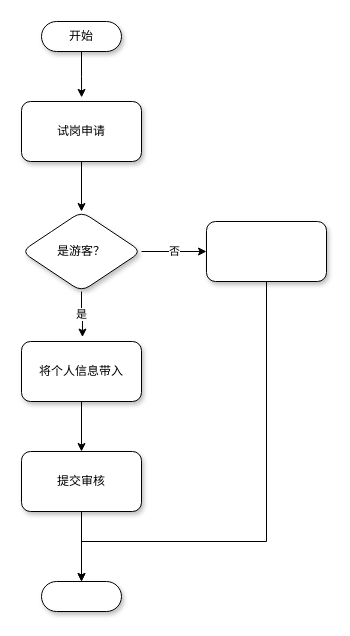
The diagram is 350 pixels wide and 636 high, and some of its shapes have lost their labels. Here are the shapes that lost their labels. From the top down, the centre of each, then its label:
At point 267,252: "提示不需要试岗".
At point 82,597: "结束".
